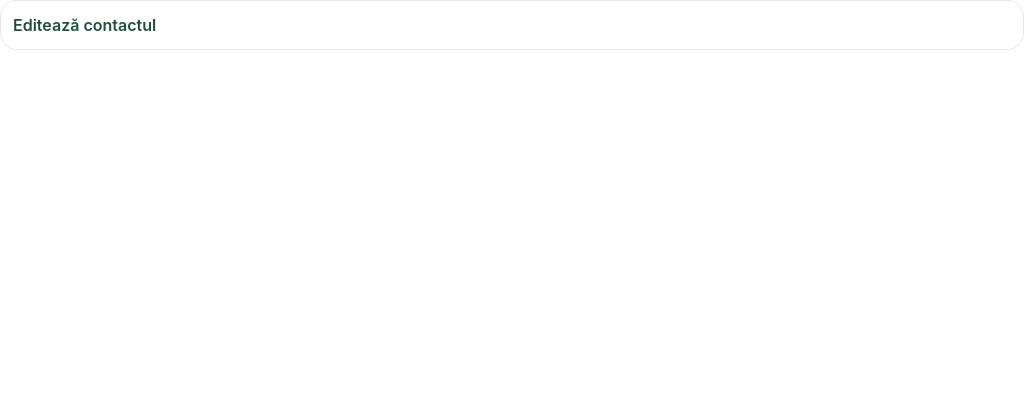
Scenario: keeps edits visible and reports a rejected save
Step 1. Click the button "Editează contactul" → x=85, y=25, box [13, 13, 156, 37]
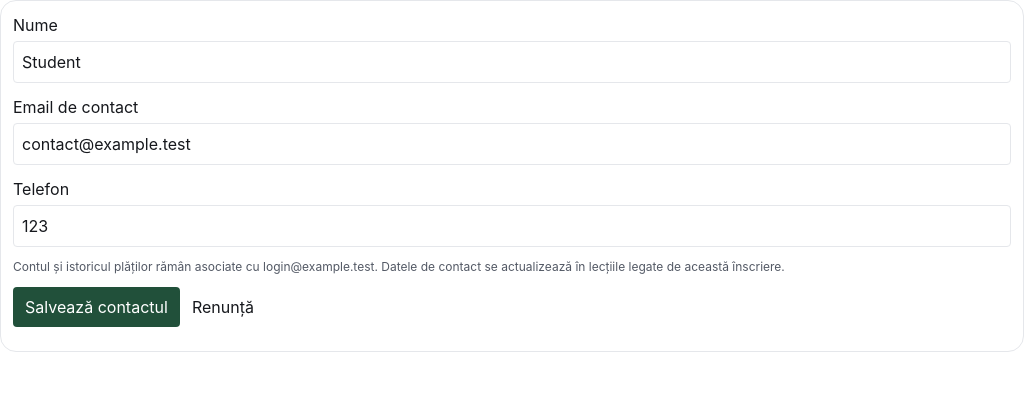
Step 2. Click the button "Salvează contactul" → x=96, y=307, box [13, 287, 180, 327]
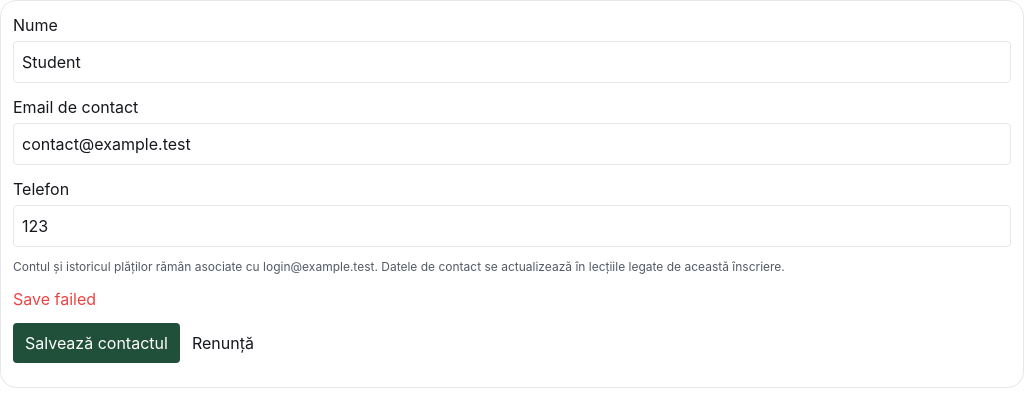
Expected: the text "login@example.test" is shown, [263, 259, 374, 274]
Expected: the message reads "Save failed", [13, 289, 96, 309]
